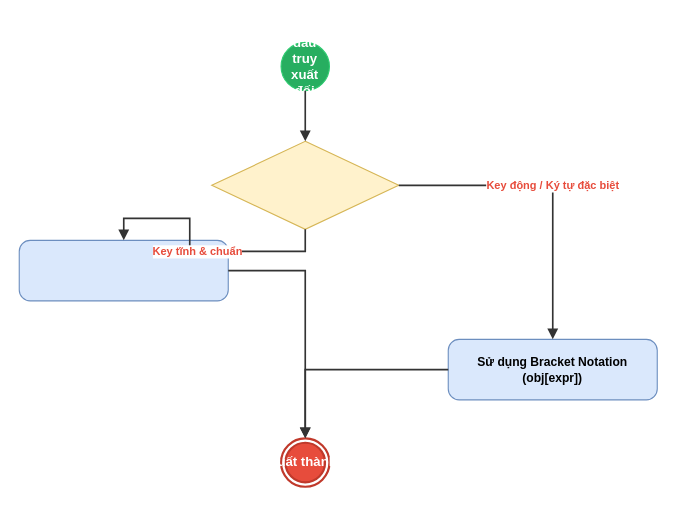
Some shapes in this 677 by 506 pixel diagram are drawn without their labels. The shapes that lost their labels are listed below. From the top down, each one's centre as x and y in pixels, then its label:
the point at 305,184: Kiểm tra đặc điểm của Key
the point at 123,270: Sử dụng Dot Notation (obj.prop)
